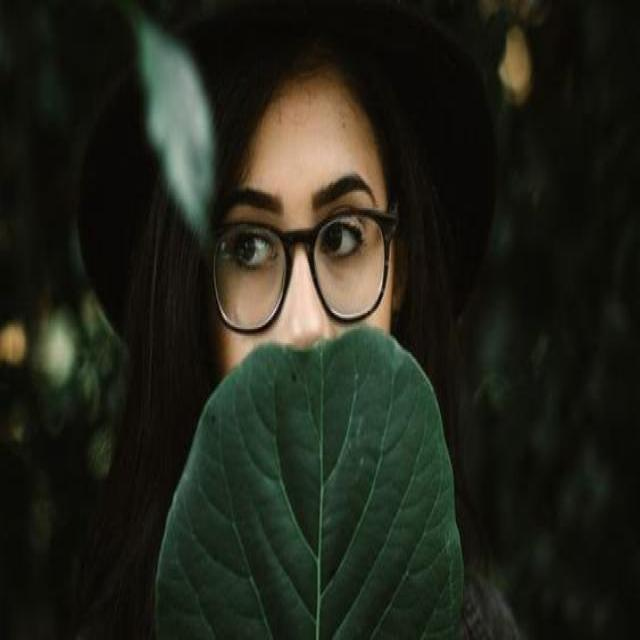glasses: (208, 203, 398, 334)
